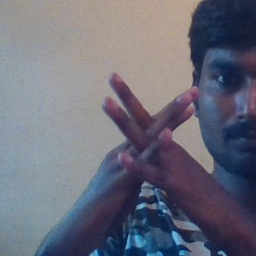W: (86, 65, 207, 204)
